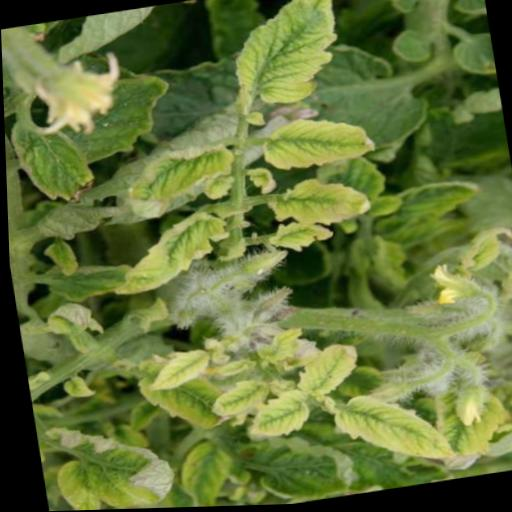Yellow Leaf Curl Virus: (220, 0, 353, 113), (319, 386, 452, 482), (101, 207, 235, 299), (116, 139, 242, 224), (252, 110, 381, 176), (5, 116, 94, 209), (273, 173, 372, 234), (284, 343, 360, 402), (138, 343, 213, 401), (236, 394, 310, 444)
